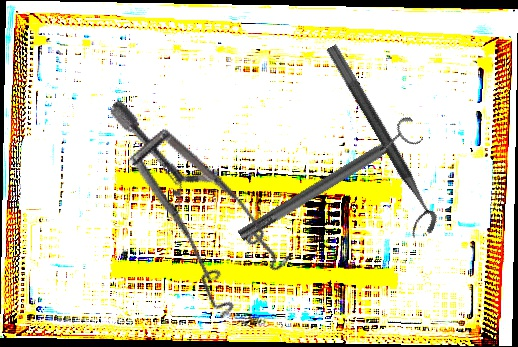Fixation Ring: (310, 43, 443, 242), (231, 114, 426, 249)
Speculum: (50, 97, 322, 335)
